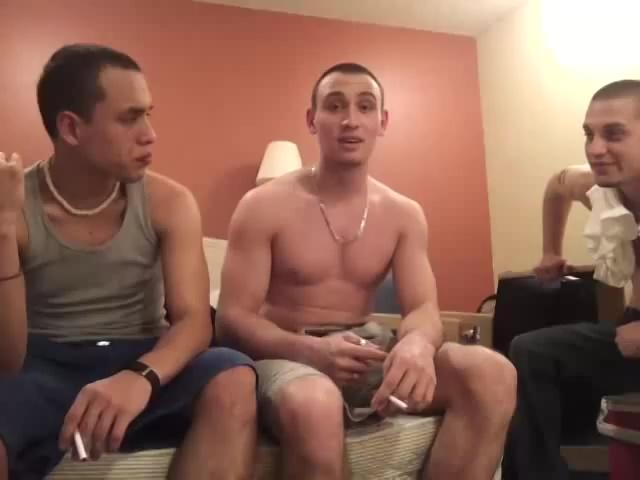cigarette: (70, 424, 92, 467), (387, 392, 411, 413)
